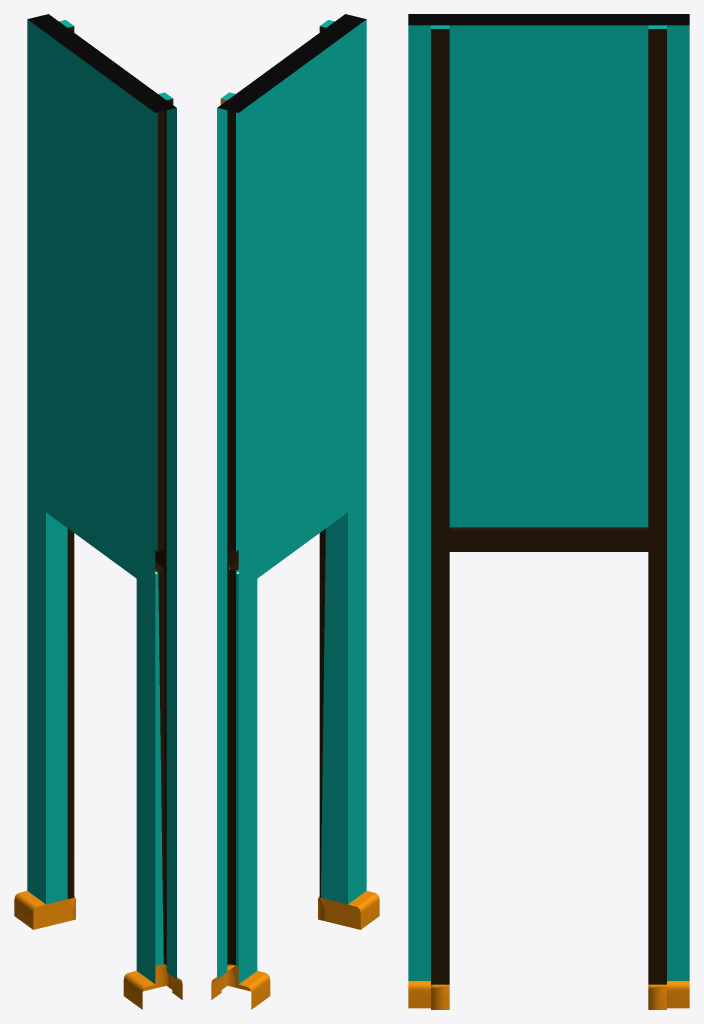
The model's file is SM_Wall__Door.fbx.
3 views of the same model, side by side, from view 1: azimuth 30°, elevation 25°; view 2: azimuth 150°, elevation 25°; view 3: azimuth 270°, elevation 25° (orthographic). The views are drawn at different scales.
Visible parts, largest first — view 1: Box001; view 2: Box001; view 3: Box001.
Part boxes in pixels (x1,y1,x2,y2): Box001: (14, 14, 182, 1009); Box001: (211, 14, 379, 1009); Box001: (408, 14, 689, 1009).
Bounding box in the file's own units: 29.53 × 591 × 154.
